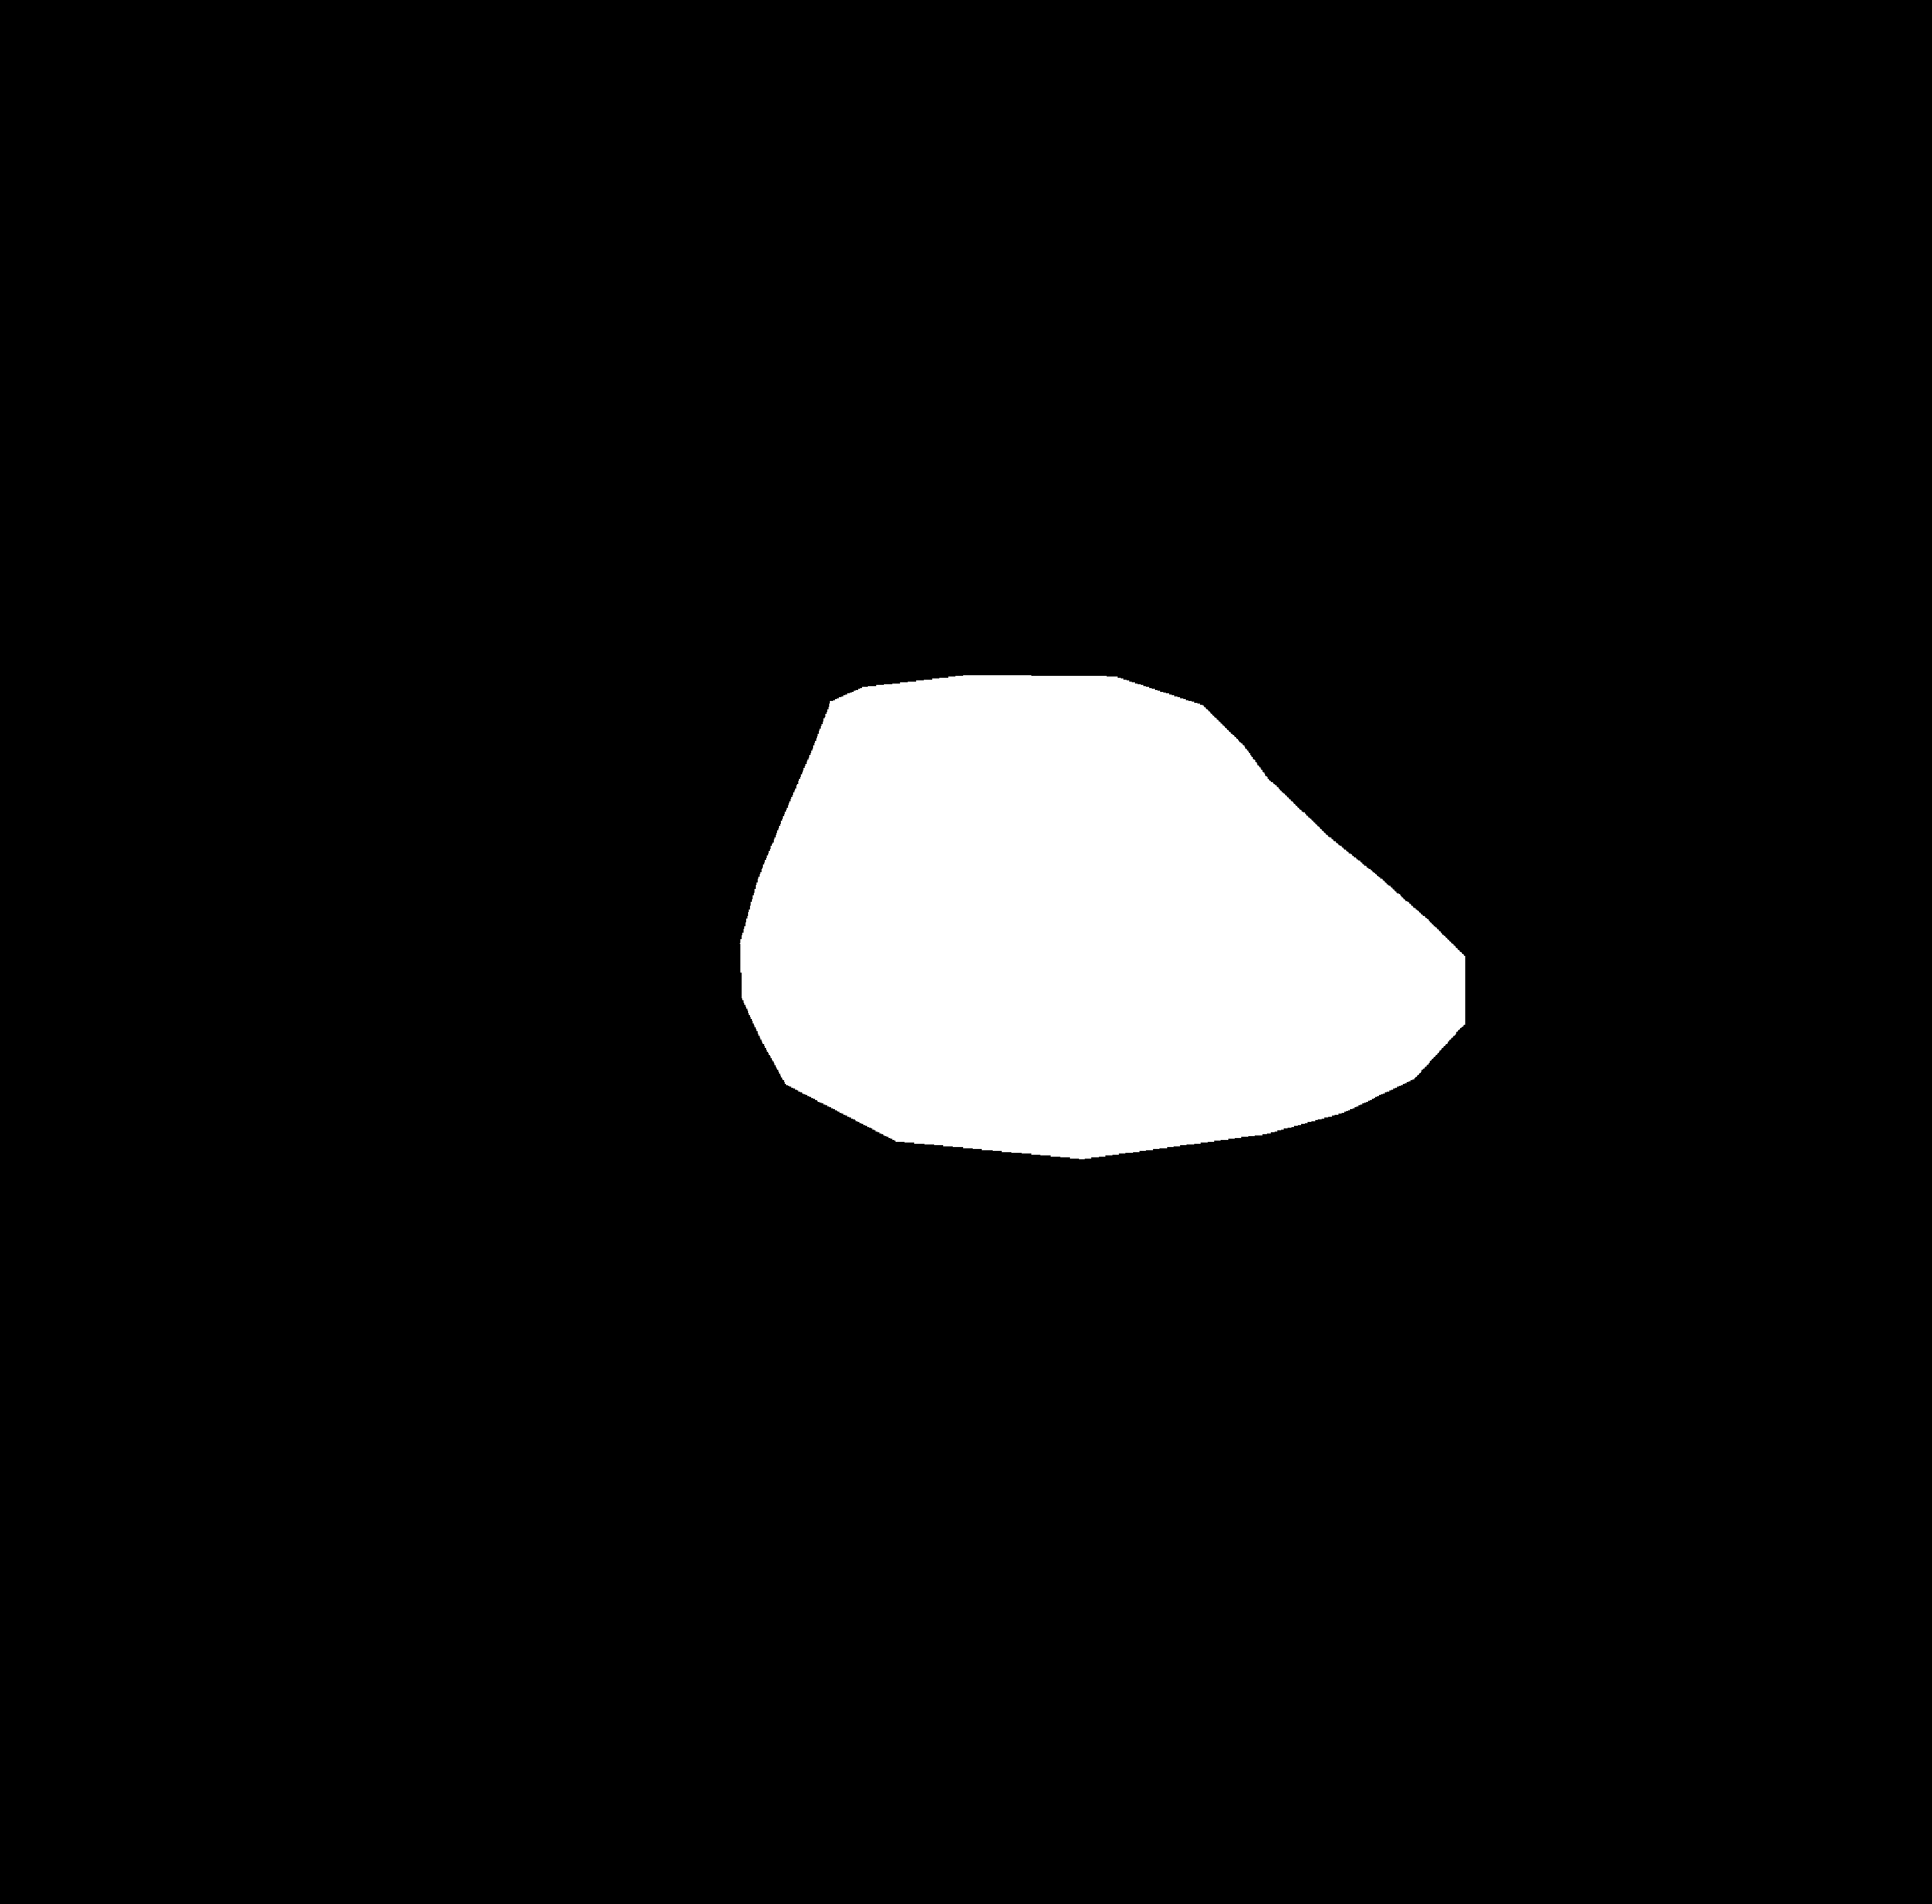heart: (736, 703, 1458, 1221)
left_lung: (262, 82, 846, 1370)
right_lung: (1010, 103, 1466, 891)
